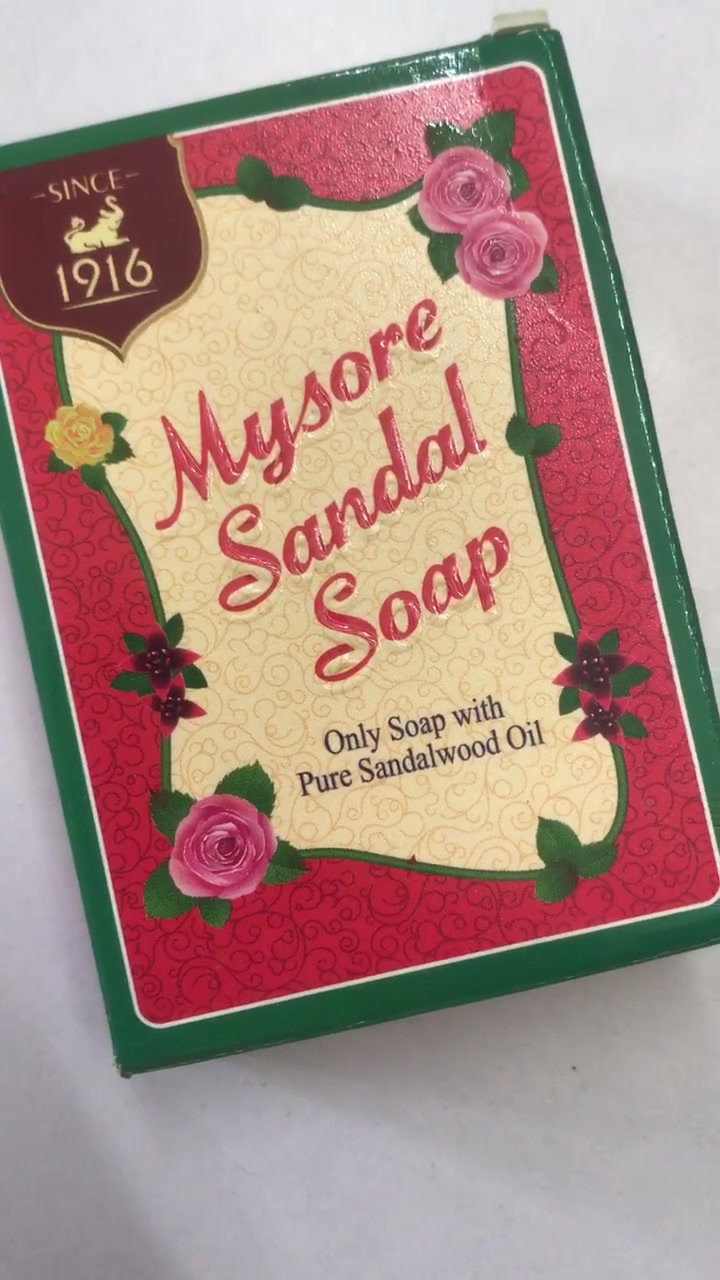mysore sandal soap: (3, 41, 720, 1077)
